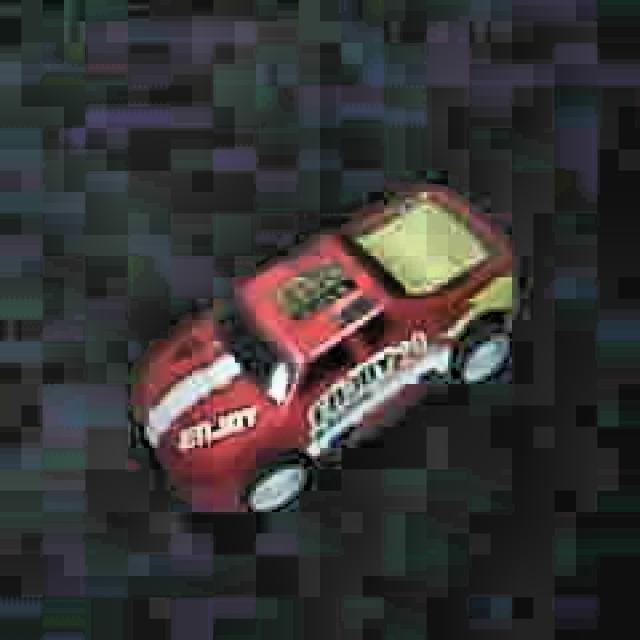car: (116, 174, 517, 526)
